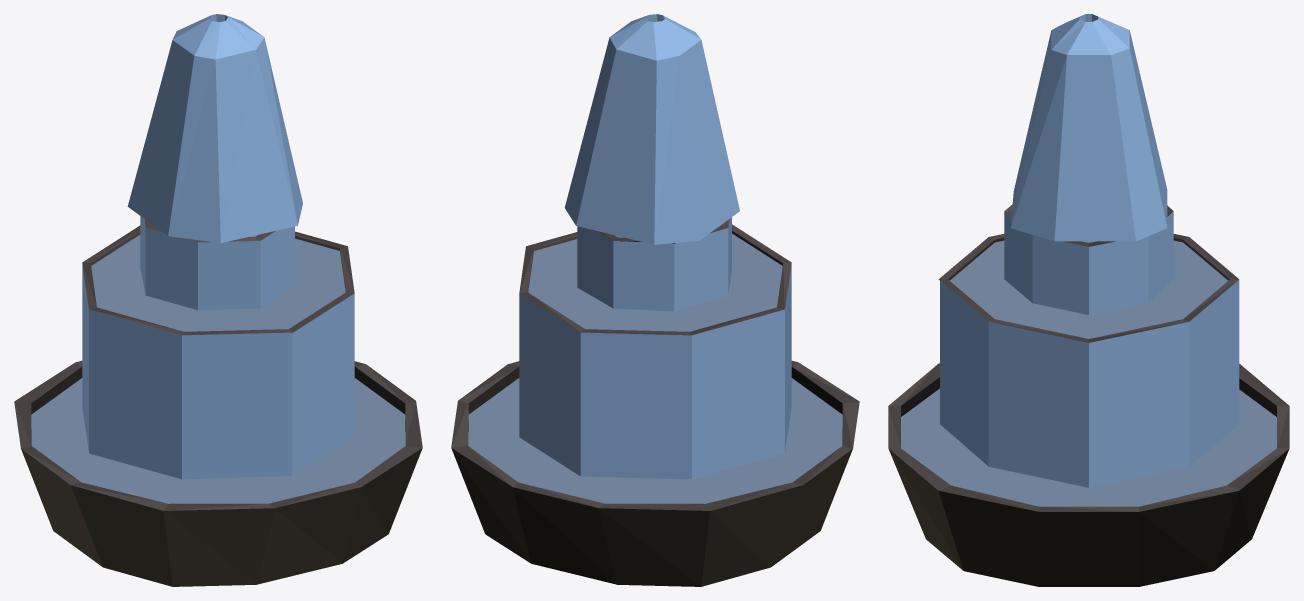
Rendered from lumbridge_fountain.obj.
The picture shows the model from 3 angles, left to right: view 1: azimuth 30°, elevation 25°; view 2: azimuth 150°, elevation 25°; view 3: azimuth 270°, elevation 25°; orthographic projection.
Parts seen in each view (by area): view 1: Object Fountain 2026-09-21_11-25-13; view 2: Object Fountain 2026-09-21_11-25-13; view 3: Object Fountain 2026-09-21_11-25-13.
Boxes of the visible parts, x1,y1,x2,y2 form: Object Fountain 2026-09-21_11-25-13: [14, 14, 422, 586]; Object Fountain 2026-09-21_11-25-13: [451, 14, 859, 586]; Object Fountain 2026-09-21_11-25-13: [888, 14, 1289, 586].
Bounding box in the file's own units: 256 × 352 × 256.
